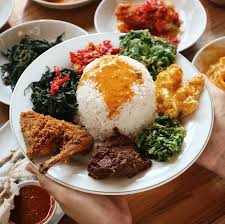Nasi padang: (20, 41, 207, 180)
